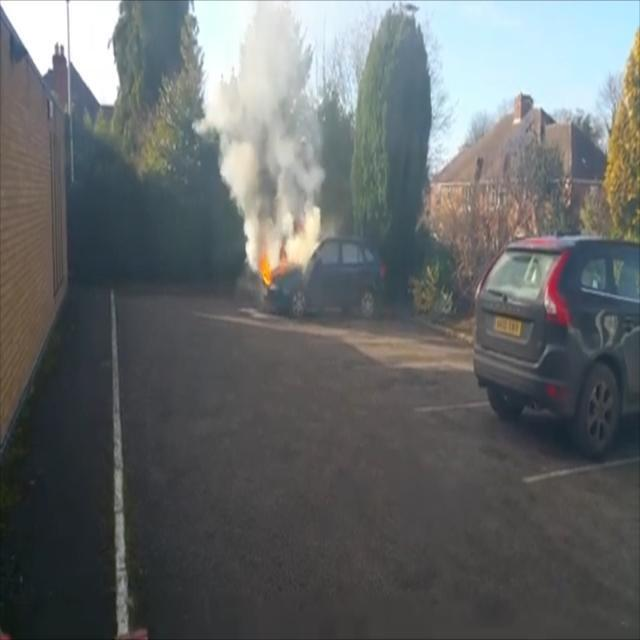fire: (256, 230, 314, 296)
